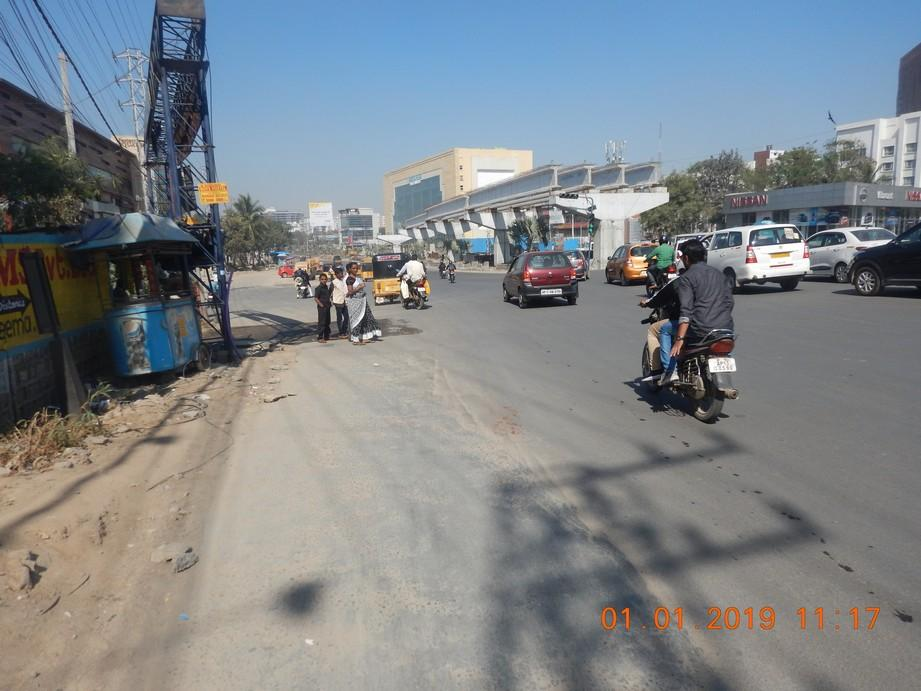plate: (708, 355, 737, 373)
